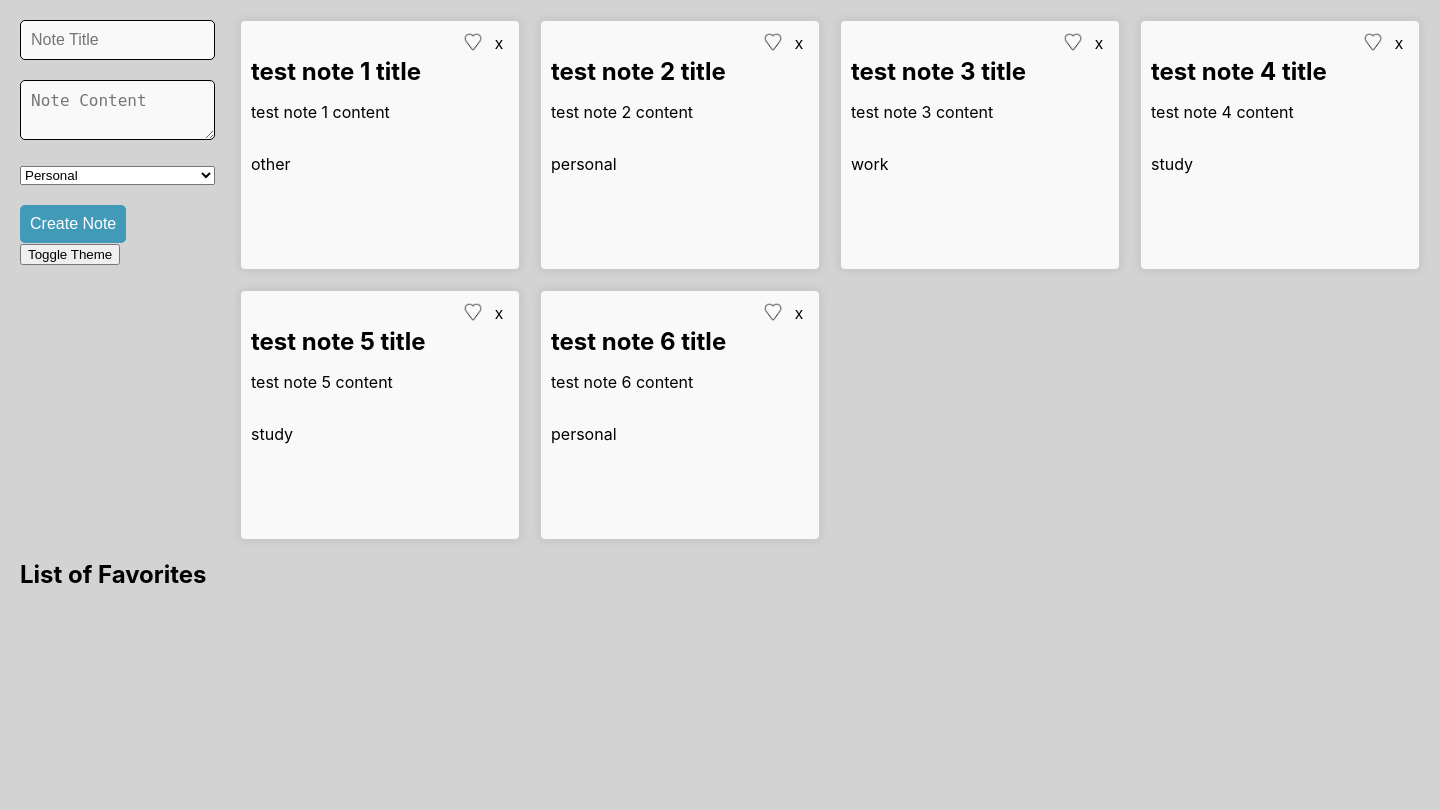
read notes
This screenshot has width=1440, height=810.
Type "Read Note 1" into the field with placeholder "Note Title".
click(117, 40); type("Read Note 1")  # box [20, 20, 214, 60]
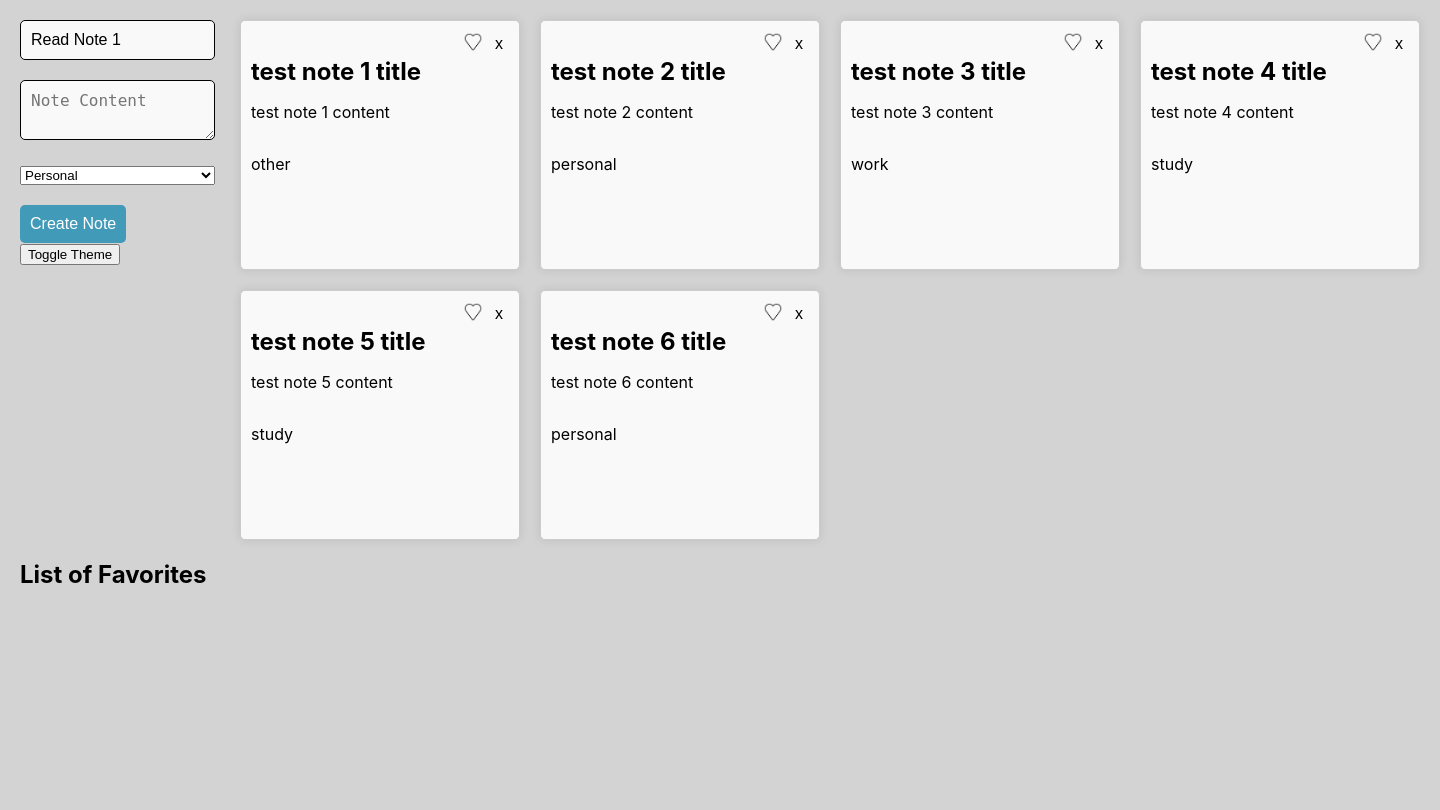
Type "Note content 1" into the text box with placeholder "Note Content".
click(117, 110); type("Note content 1")  # box [20, 80, 214, 140]
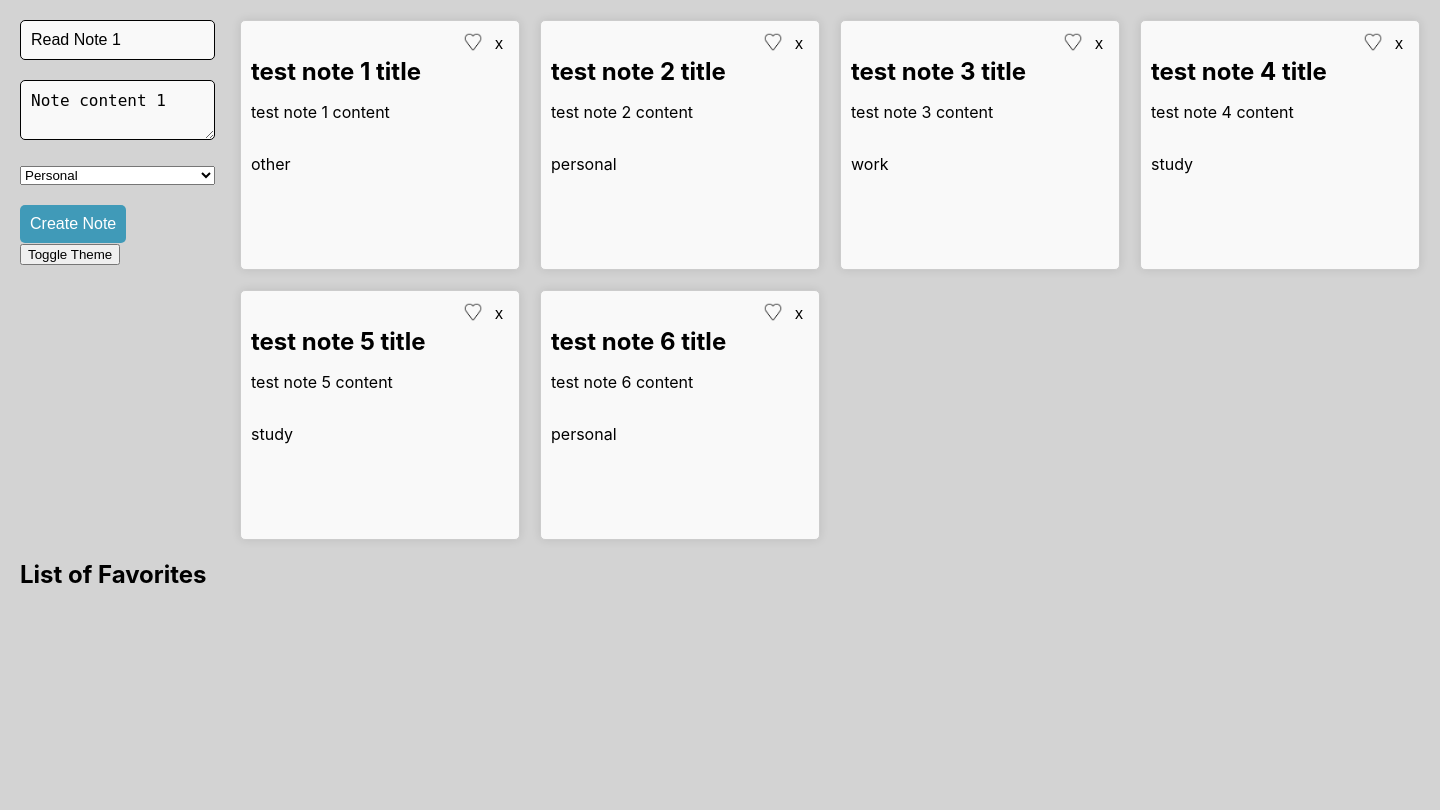
Click the button "Create Note".
click(73, 224)  # box [20, 205, 126, 243]
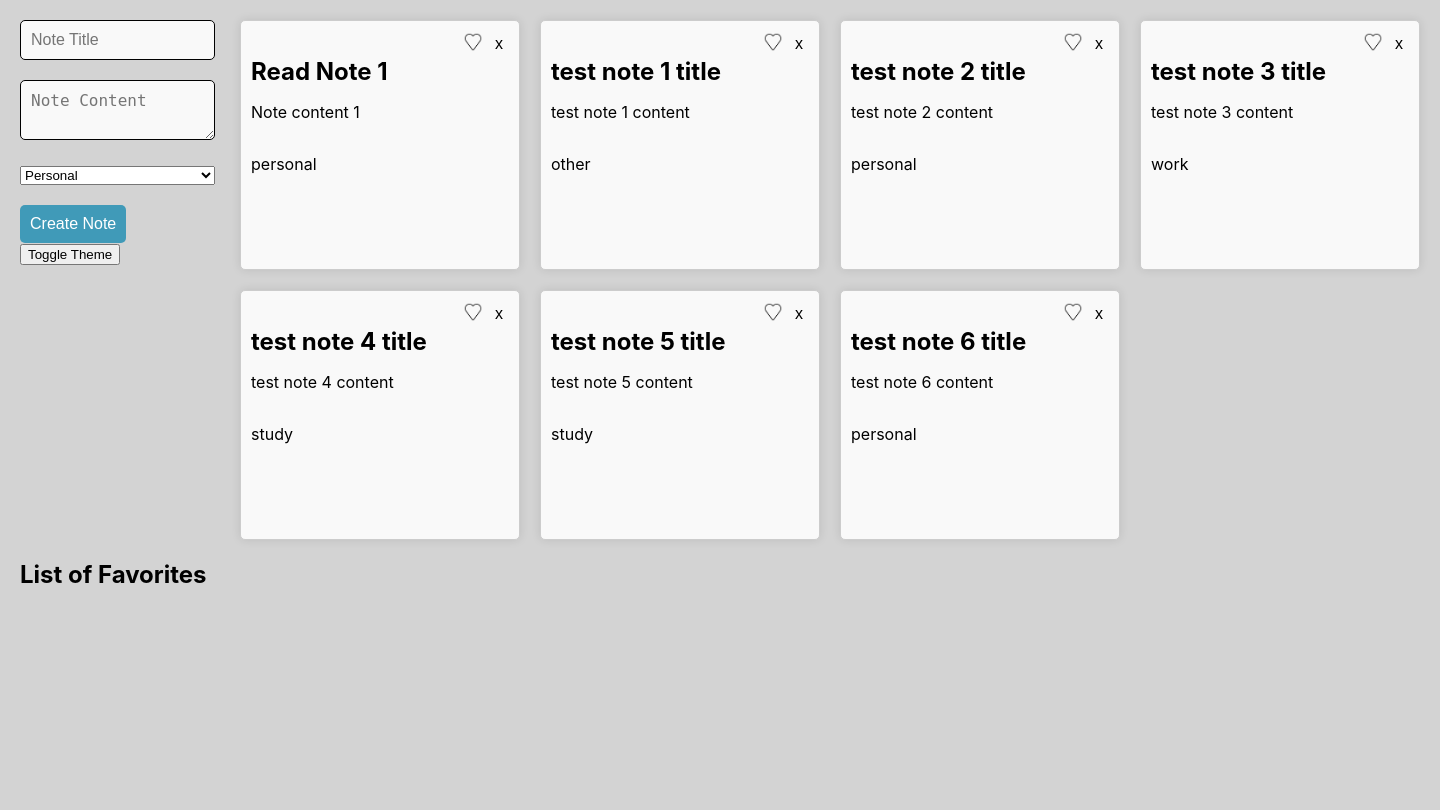
Type "Read Note 2" into the field with placeholder "Note Title".
click(117, 40); type("Read Note 2")  # box [20, 20, 214, 60]
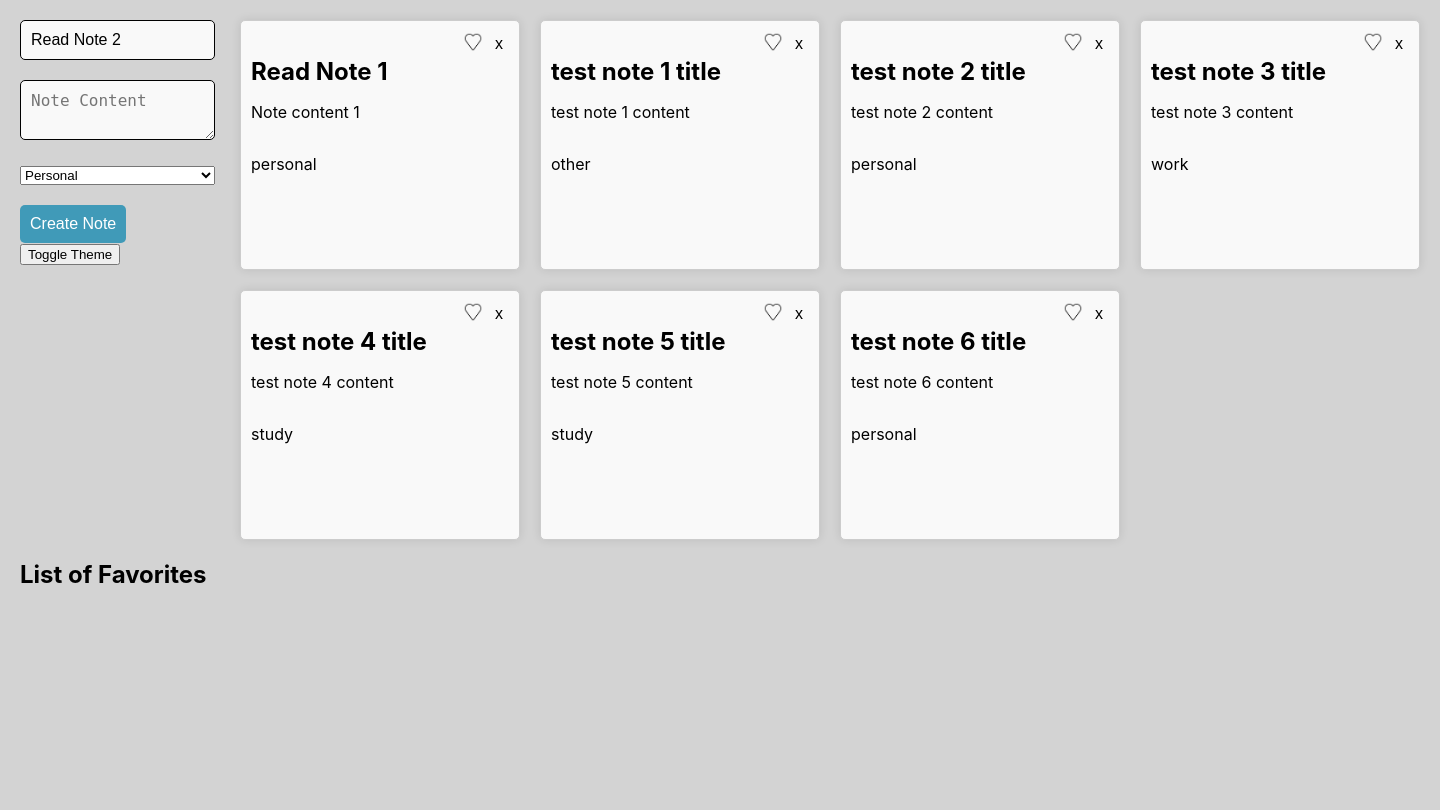
Type "Note content 2" into the text box with placeholder "Note Content".
click(117, 110); type("Note content 2")  # box [20, 80, 214, 140]
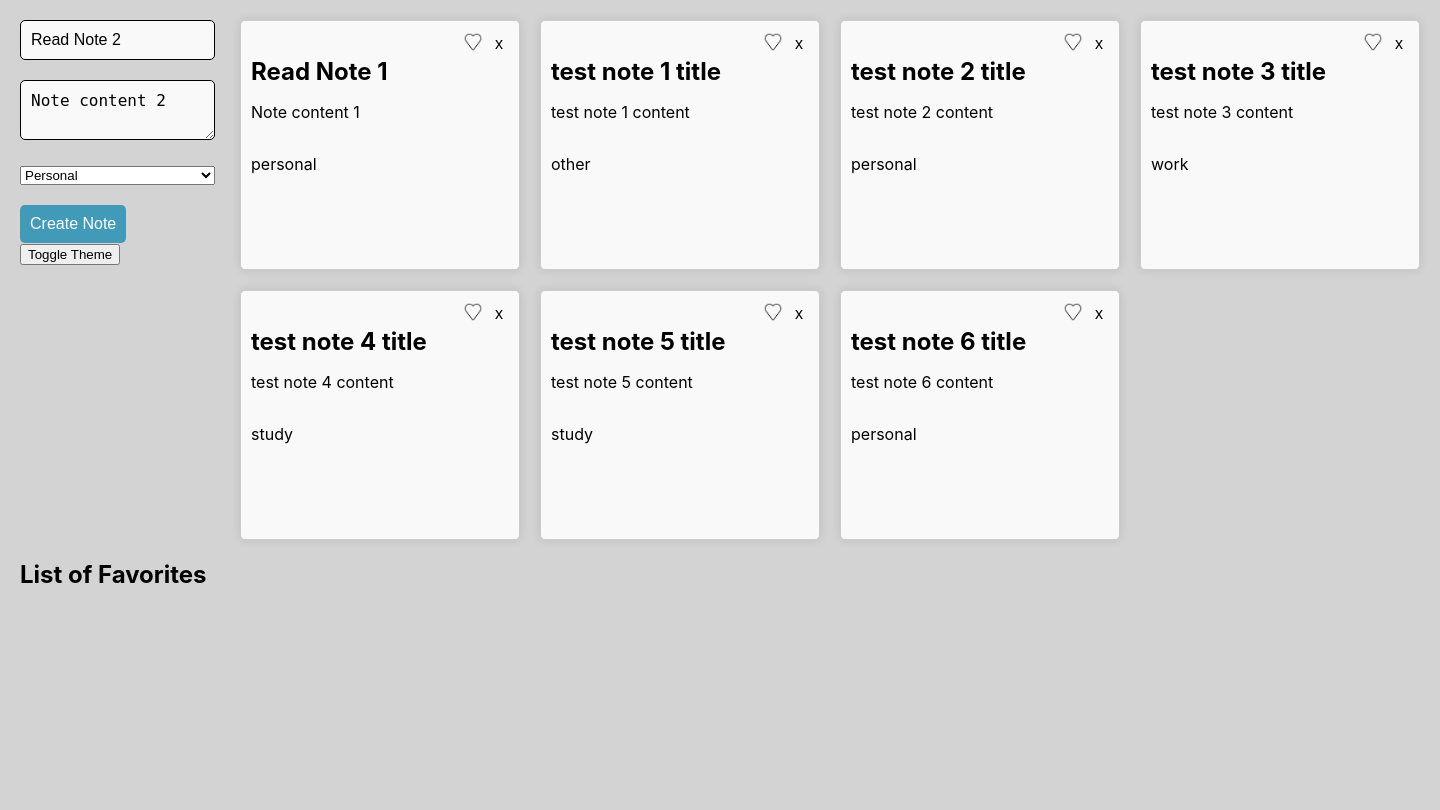
Click the button "Create Note".
click(73, 224)  # box [20, 205, 126, 243]
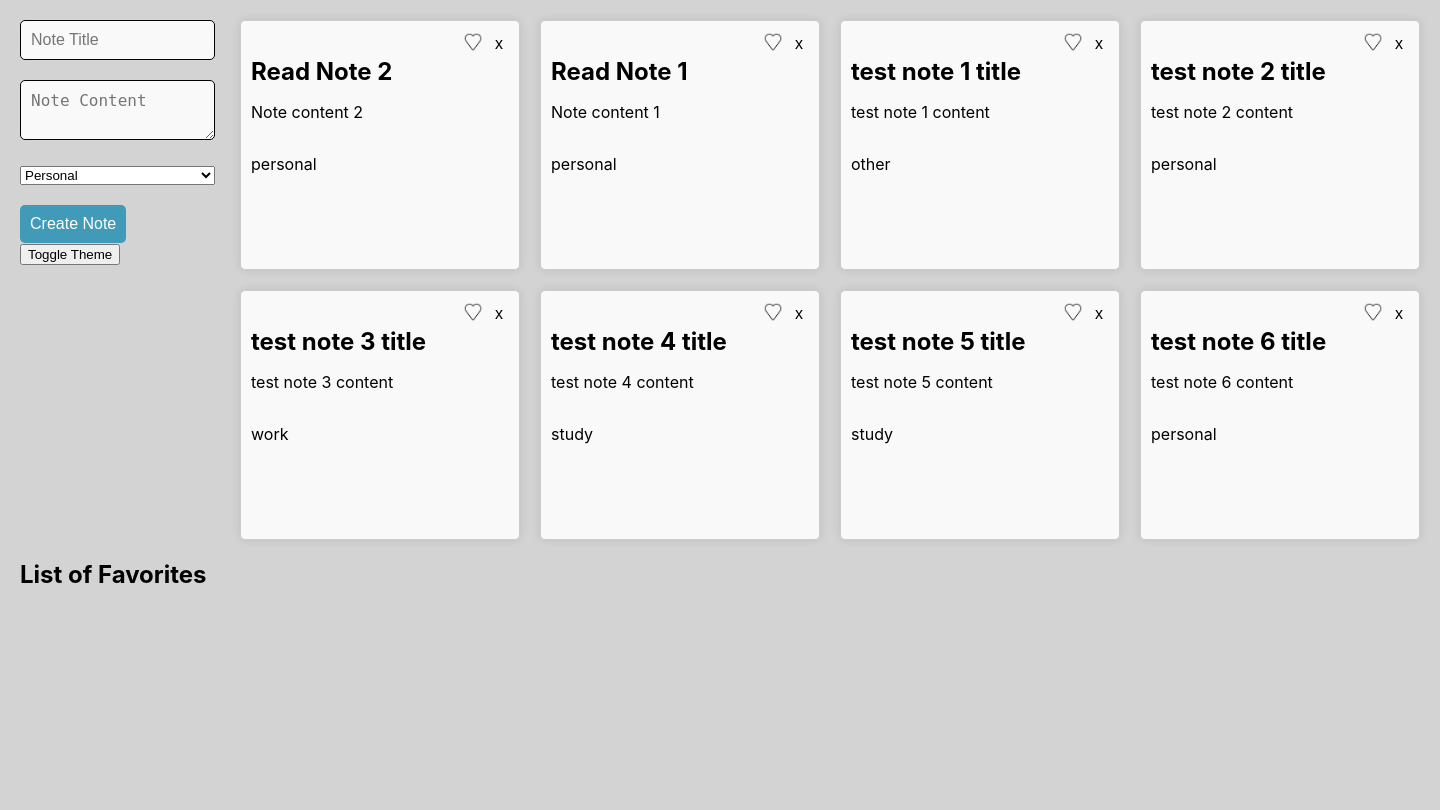
Now the heading "Read Note 1" is shown, box [551, 57, 688, 86]
Now the text "Note content 1" is shown, box [551, 102, 660, 122]
Now the heading "Read Note 2" is shown, box [251, 57, 392, 86]
